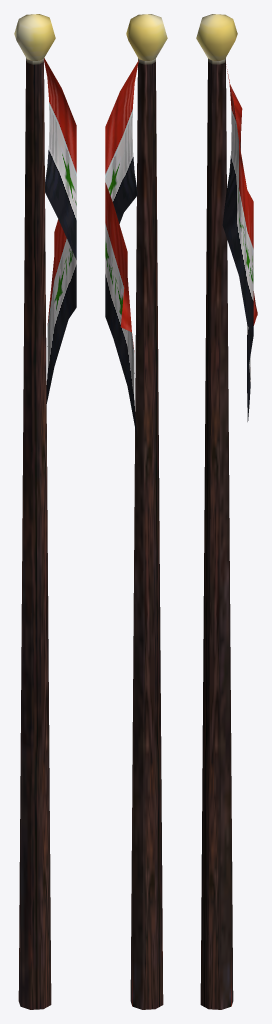
Rendered from FlagPoleStill.glb.
3 views of the same model, side by side, from view 1: azimuth 30°, elevation 25°; view 2: azimuth 210°, elevation 25°; view 3: azimuth 330°, elevation 25° (orthographic).
Parts seen in each view (by area): view 1: FLAGPOLESTILL; view 2: FLAGPOLESTILL; view 3: FLAGPOLESTILL.
Part boxes in pixels (bbox=[...]): FLAGPOLESTILL: bbox=[14, 14, 76, 1009]; FLAGPOLESTILL: bbox=[105, 14, 167, 1009]; FLAGPOLESTILL: bbox=[196, 14, 257, 1009].
Size of the model in its own units: 0.423 by 7.32 by 0.318.
1 material, 1 textured.
